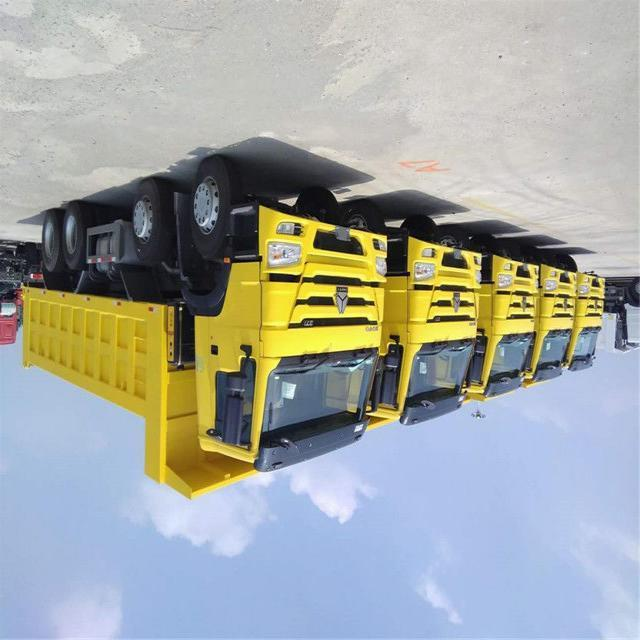truck: (21, 162, 386, 501), (368, 205, 490, 437), (470, 248, 538, 410), (532, 259, 580, 390), (568, 264, 610, 383)
